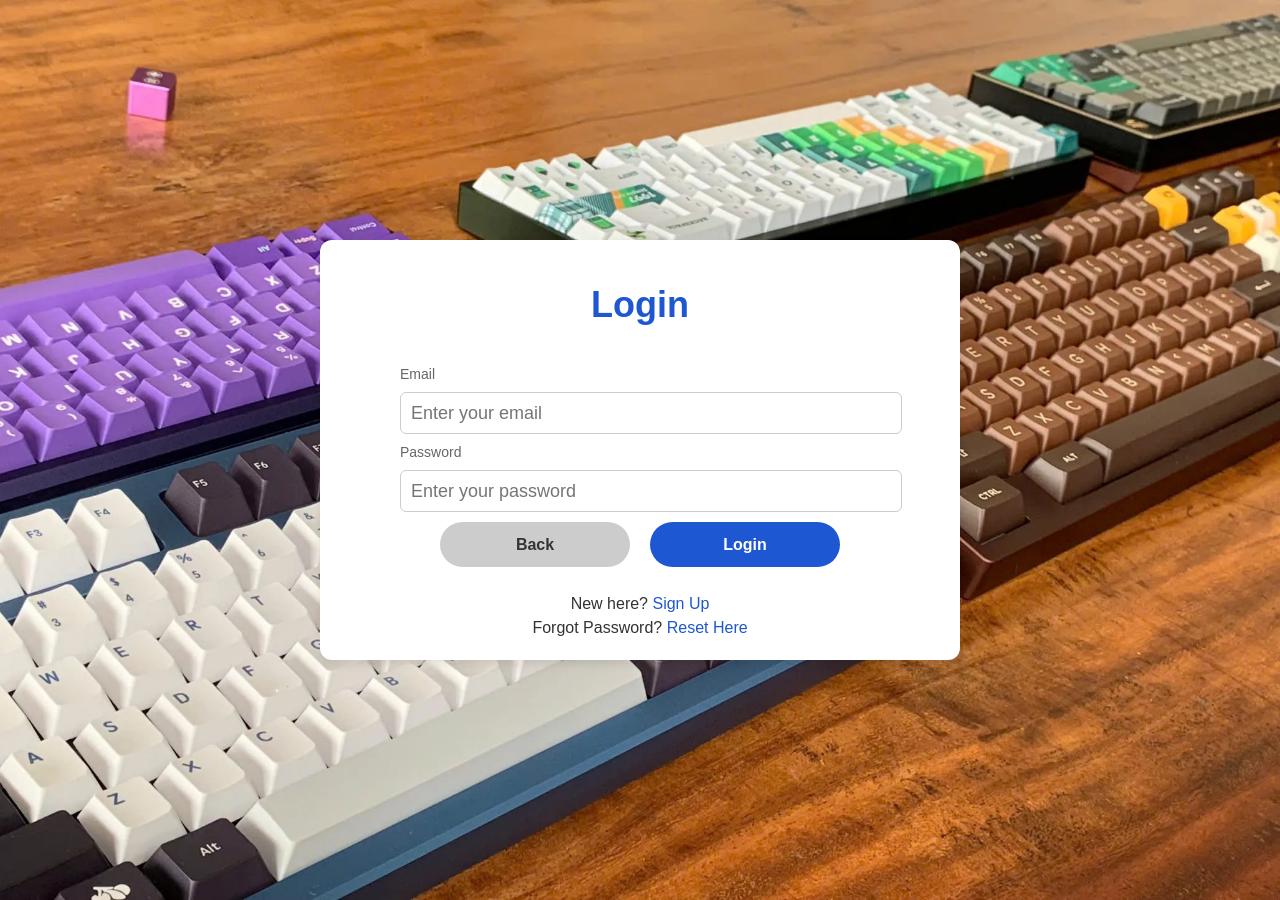
Scenario: shows an error when required fields are missing
Click the button "Login": (745,544) [650, 522, 840, 567]
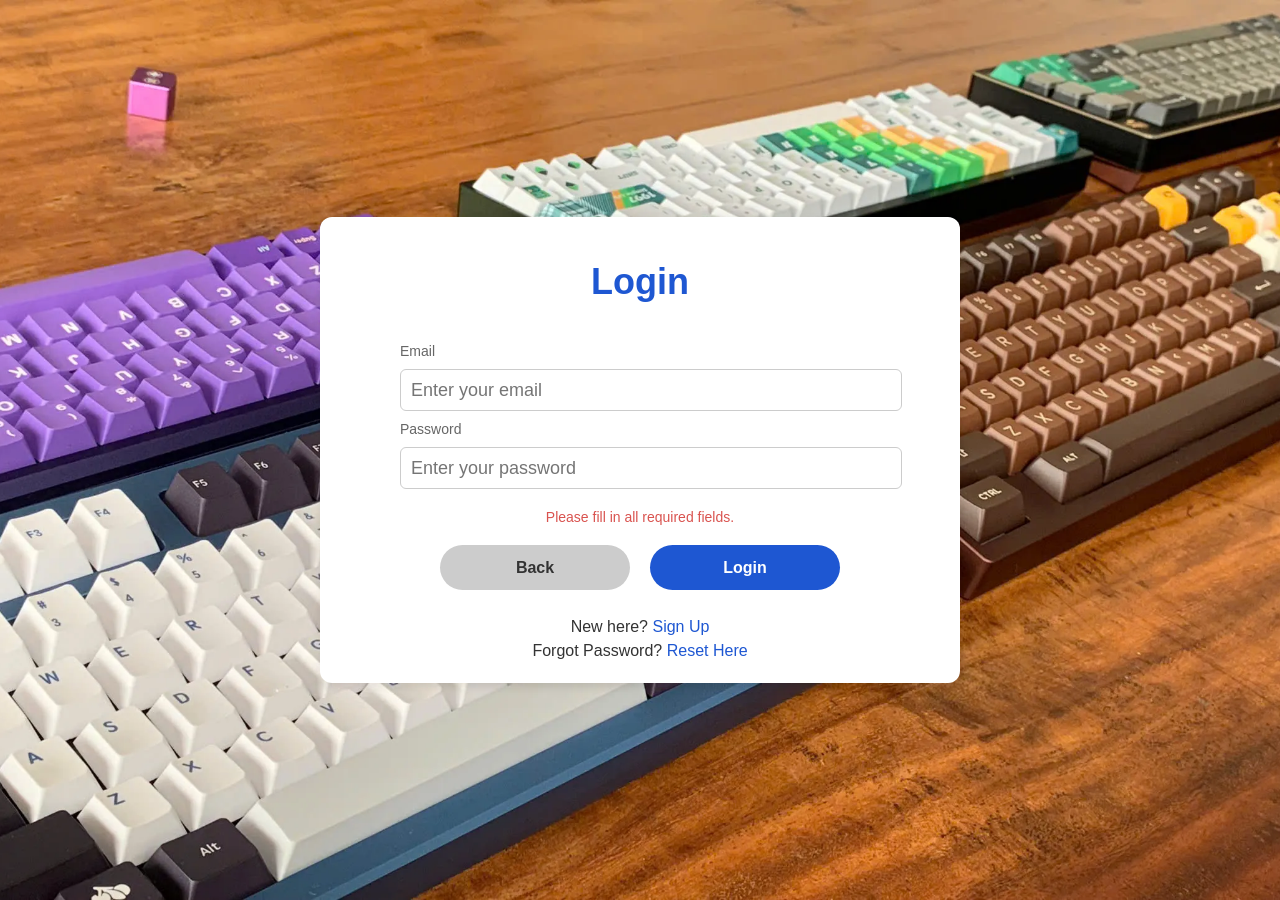
Expected: the text "Please fill in all required fields." is shown, [546, 509, 734, 525]
